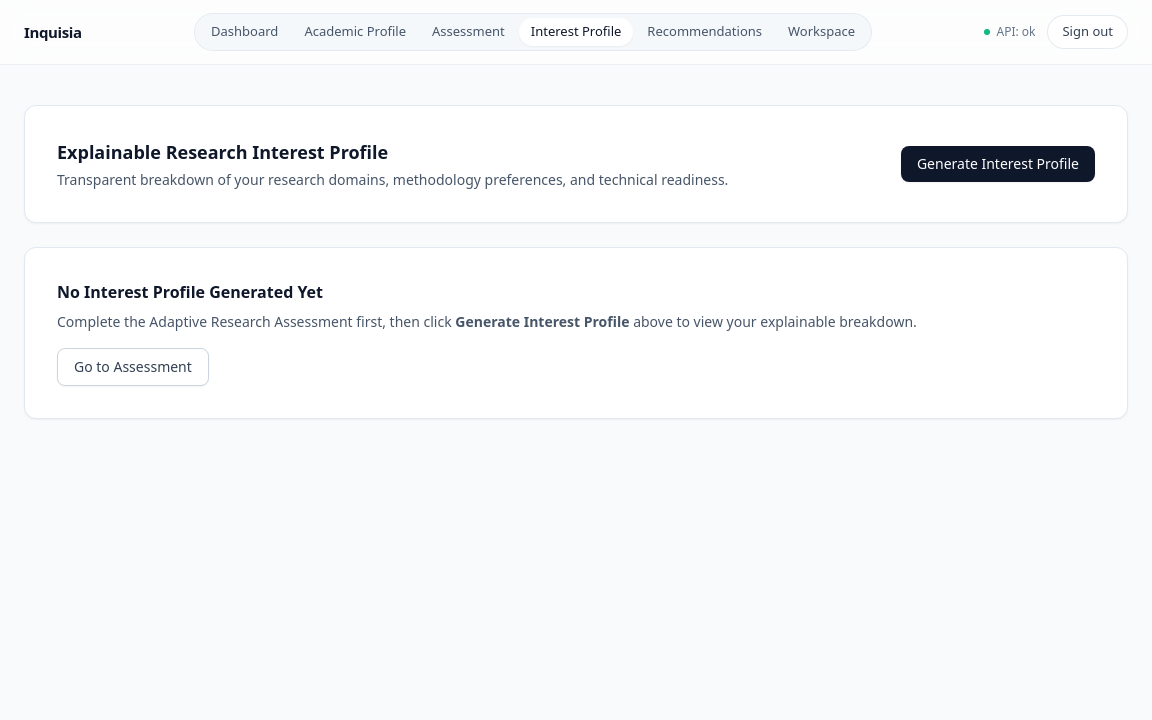
Test: InterestsPage › prompts to generate when 404 and renders profile after POST /analyze
Expected: the heading "No Interest Profile Generated Yet" is shown, [57,281,323,303]
What coordinates should you click on to do the following:
click the button "Generate Interest Profile"
I would click on:
 (998, 164)
Its box is [901,146,1095,182].
(page scrolled)
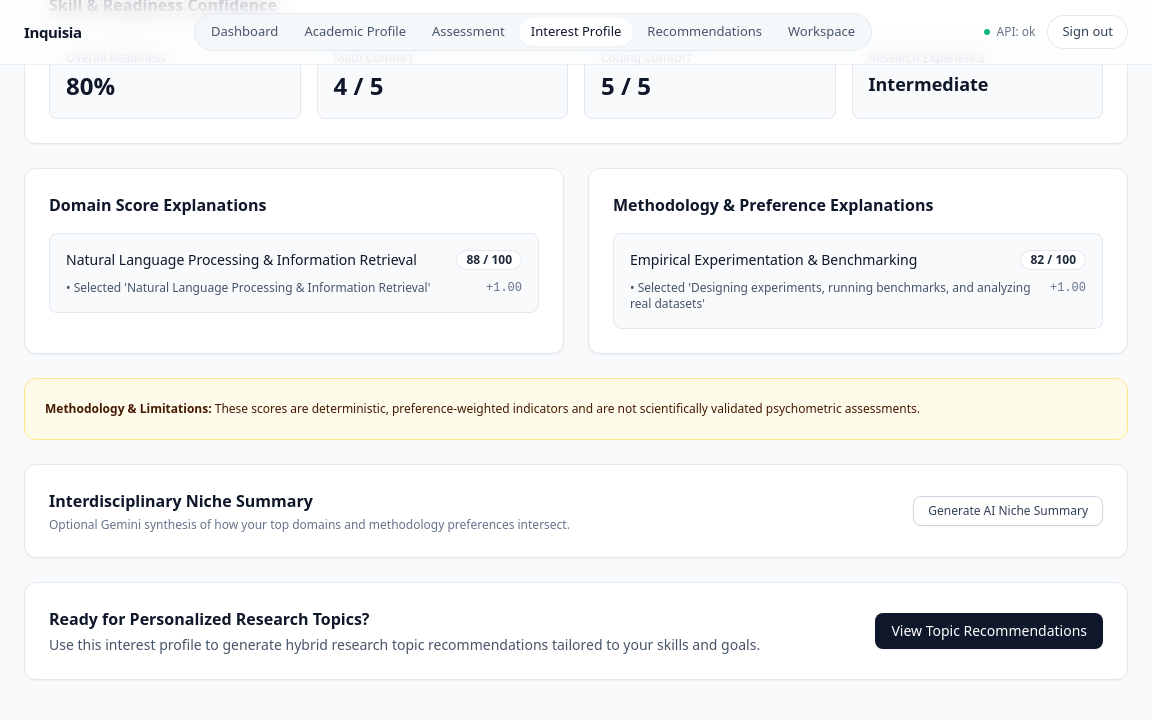
Expected: the text "80%" is shown, [66,69,115,102]
Expected: the text "Natural Language Processing & Information Retrieval" is shown, [66,250,417,270]
Expected: the text "not scientifically validated psychometric assessments" is shown, [215,400,920,417]
What coordinates should you click on to do the following:
click the button "Generate AI Niche Summary"
I would click on:
 (1008, 510)
Its box is [913,496,1103,526].
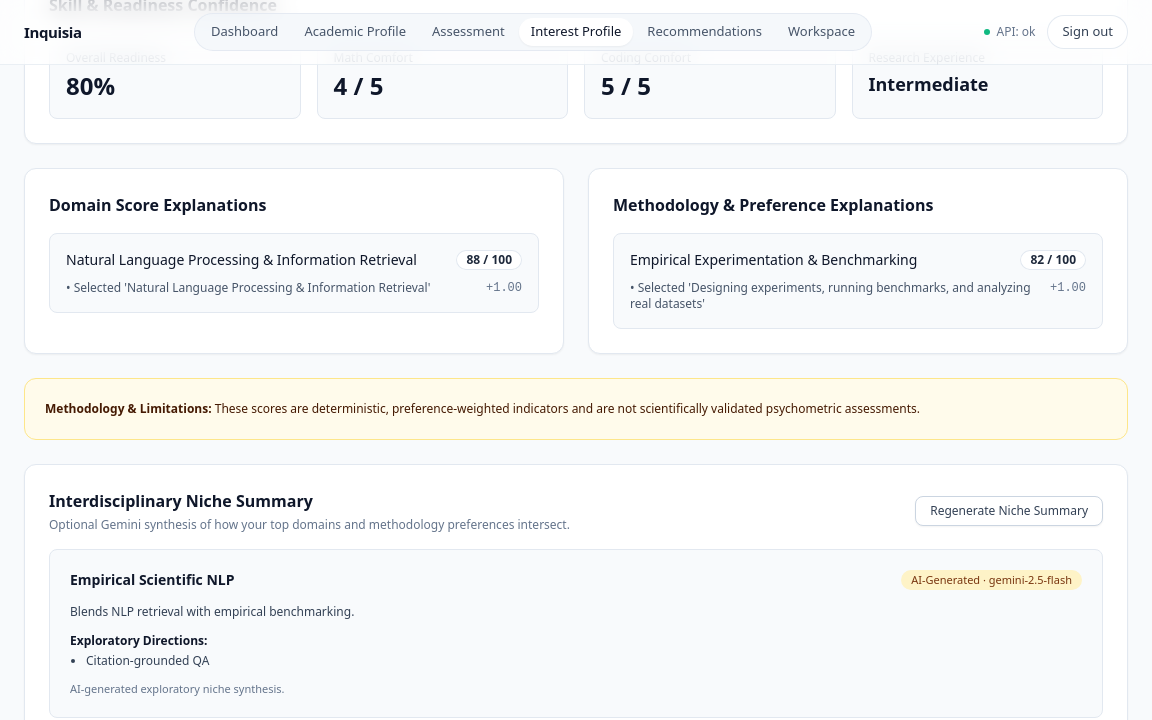
Expected: the text "Empirical Scientific NLP" is shown, [70,570,234,590]
